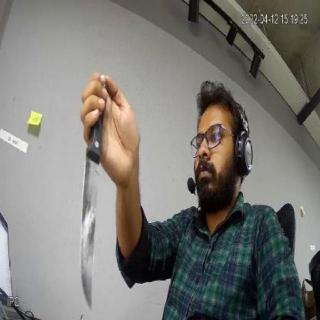knife: (71, 154, 105, 307)
